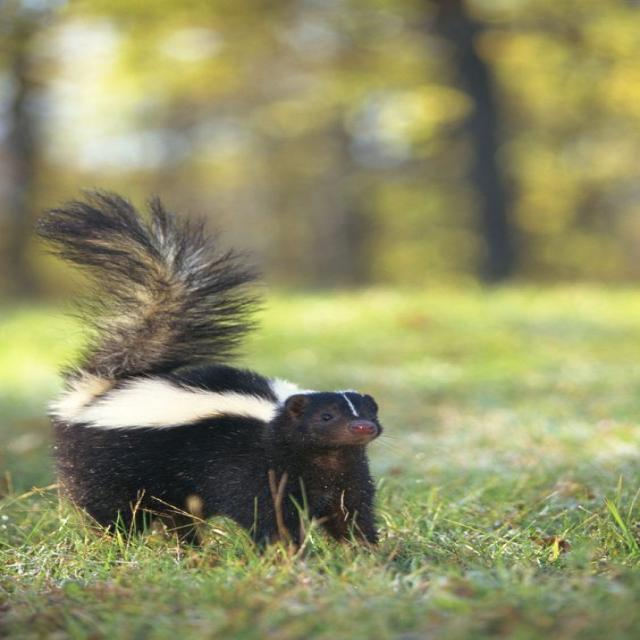Skunk: (4, 187, 424, 558)
